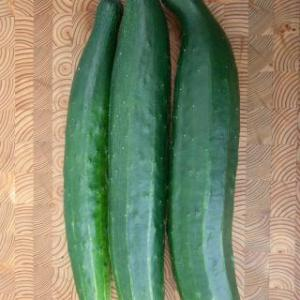cucumber: (158, 0, 246, 300), (102, 0, 172, 300), (64, 0, 124, 300)
